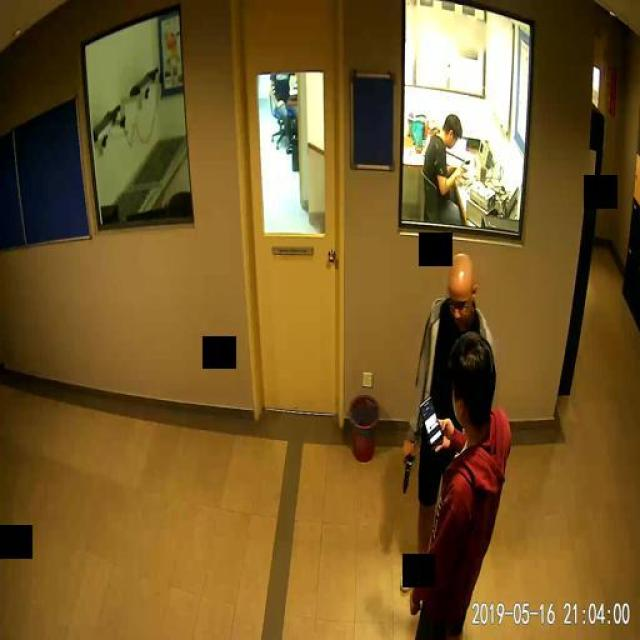gun: (402, 447, 412, 492)
